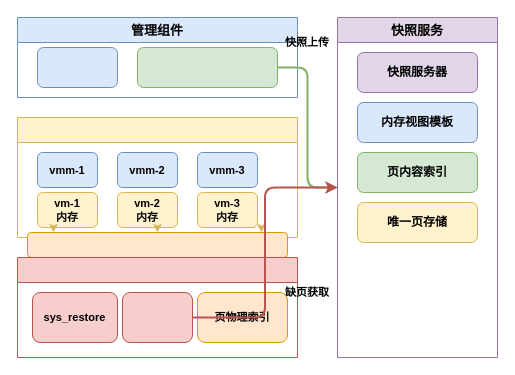
The diagram is 515 pixels wide and 375 high, and some of its shapes have lost their labels. The shapes that lost their labels are listed below. From the top down, each one's box as (x1, y1, x2, y2) in pixels, then its label:
(36, 46, 118, 88): conch
(136, 46, 278, 88): 去重模块
(16, 116, 298, 238): 沙箱实例
(26, 232, 288, 258): 共享内存块
(16, 256, 298, 358): 内核
(122, 292, 192, 342): 缺页处理
